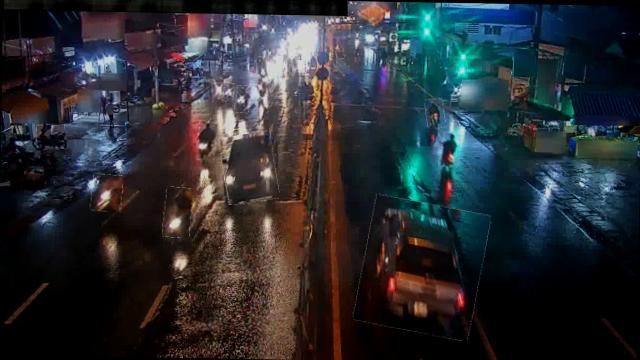Bike: (162, 186, 192, 237), (90, 174, 124, 212), (439, 132, 462, 166), (196, 122, 216, 160), (36, 124, 65, 149), (424, 98, 446, 128), (236, 85, 251, 112), (257, 56, 269, 78), (222, 82, 235, 101), (255, 78, 268, 96), (212, 82, 222, 102)
Car: (358, 198, 487, 338), (220, 132, 278, 204)
